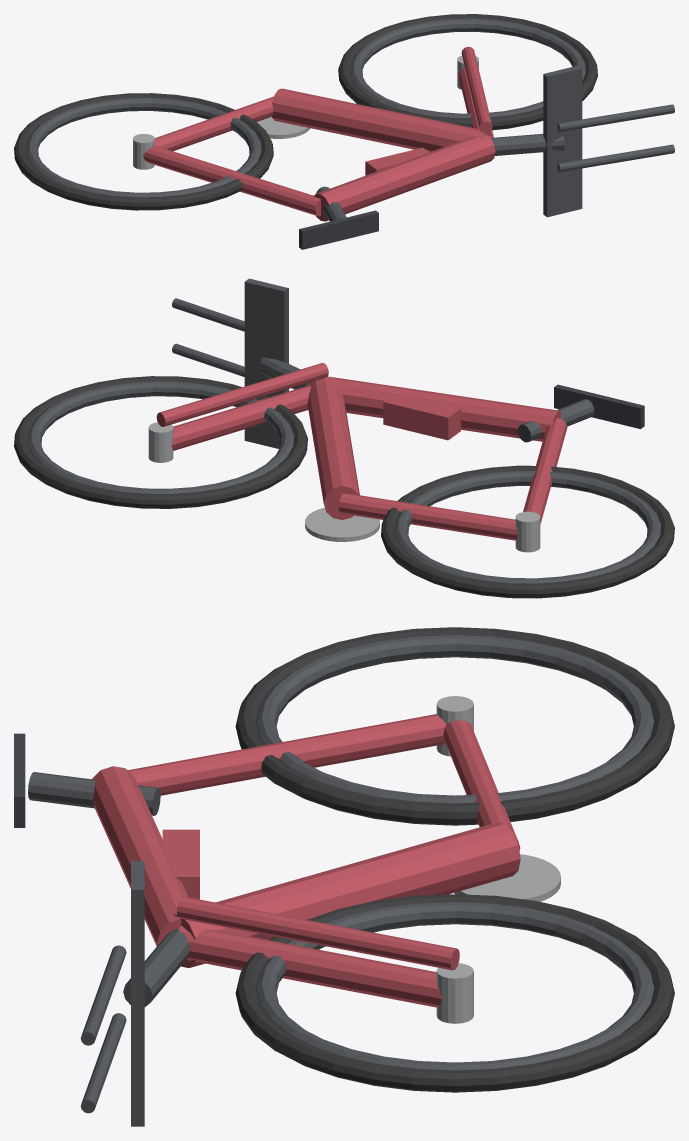
3 views of the same model, one above another, from view 1: azimuth 30°, elevation 25°; view 2: azimuth 150°, elevation 25°; view 3: azimuth 270°, elevation 25° (orthographic). The views are drawn at different scales.
Parts seen in each view (by area): view 1: geometry_0; view 2: geometry_0; view 3: geometry_0.
Part boxes in pixels (left/top/right/bottom): geometry_0: left=14, top=14, right=674, bottom=249; geometry_0: left=14, top=278, right=674, bottom=598; geometry_0: left=14, top=627, right=674, bottom=1126.
Size of the model in its own units: 1.72 by 0.42 by 1.06.
